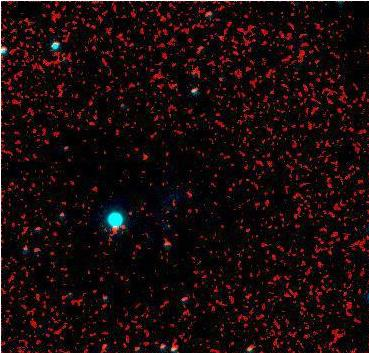star: (129, 142, 159, 172)
